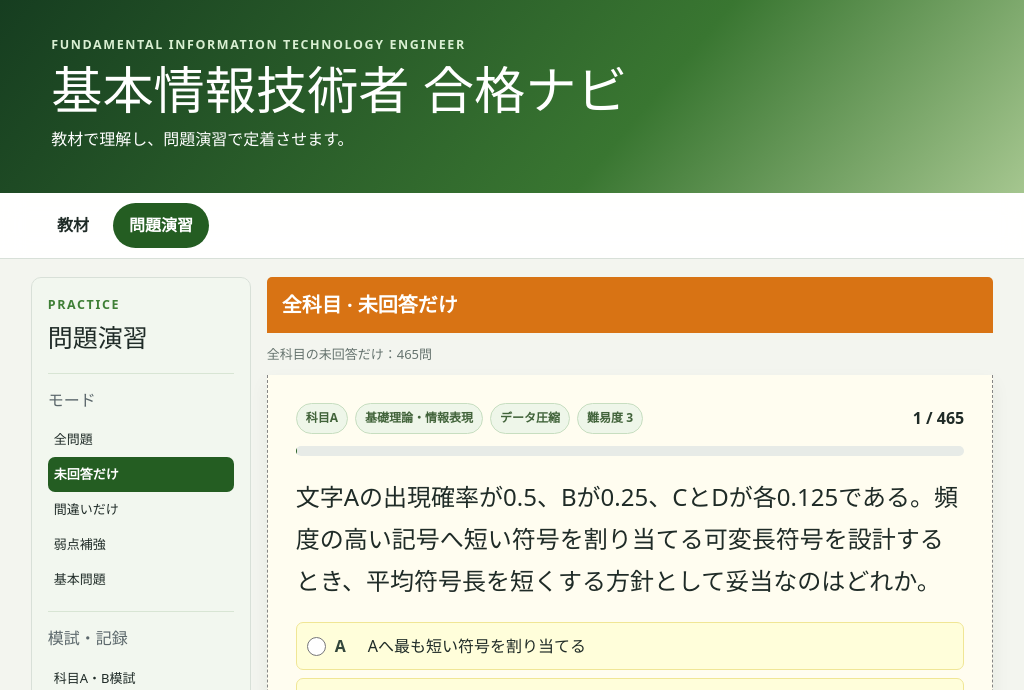
it: PracticeRunner › 未回答モードで解答しても結果表示中の問題文を別問題へすり替えない
Click the radio button labelled "A Aへ最も短い符号を割り当てる".
click(316, 646)  # box [307,637,326,656]
(page scrolled)
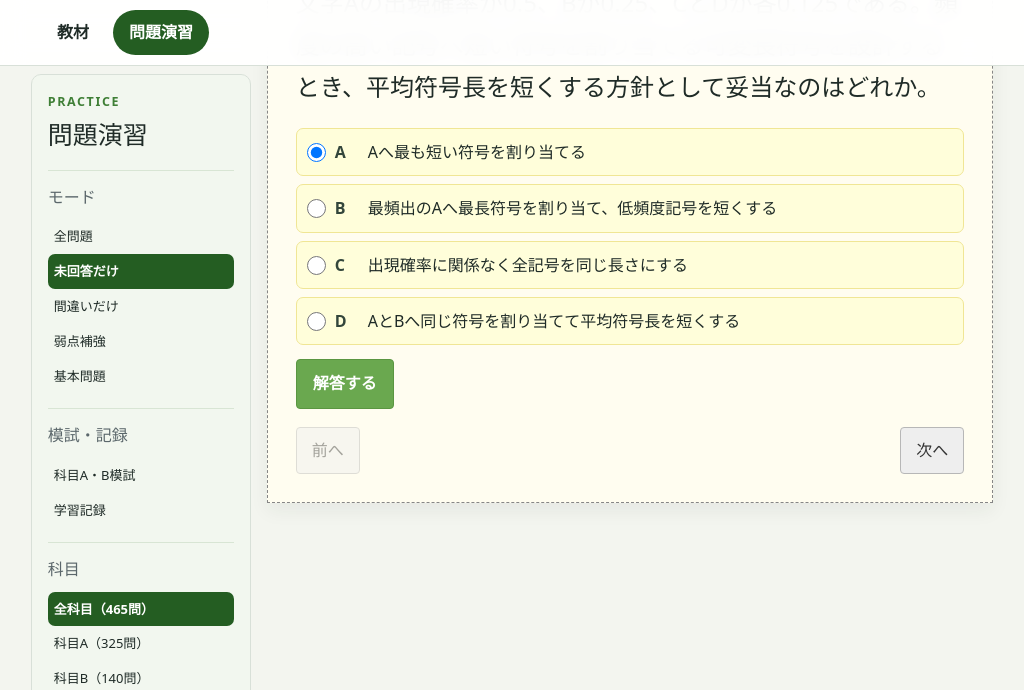
Click the button "解答する".
click(345, 384)  # box [296,359,394,409]
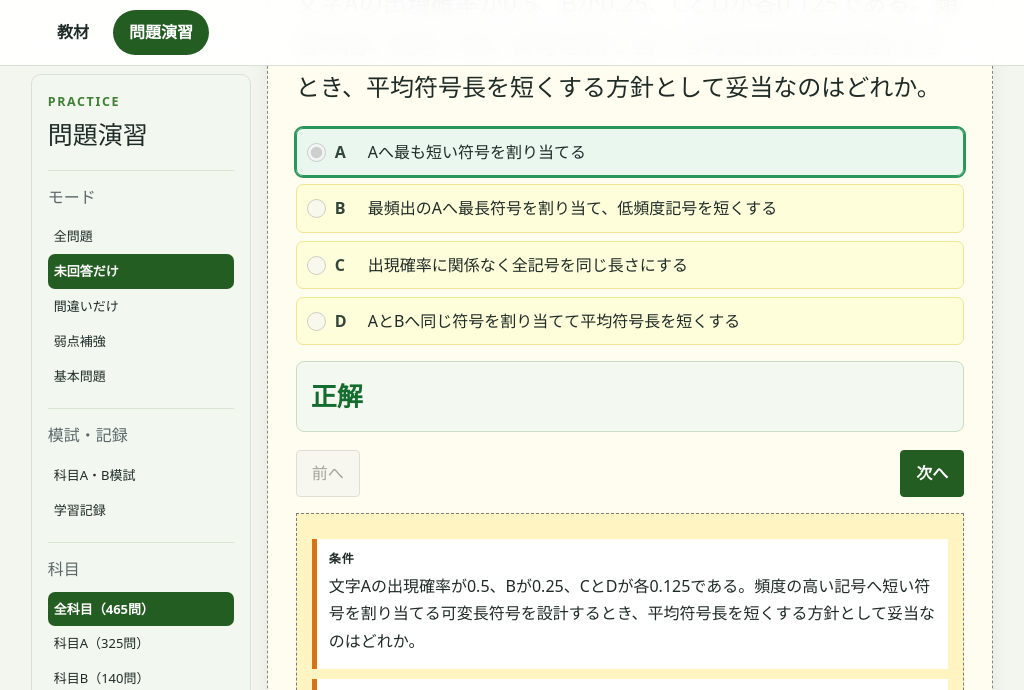
Result: the text "正解" is shown at [311,374,363,419]
